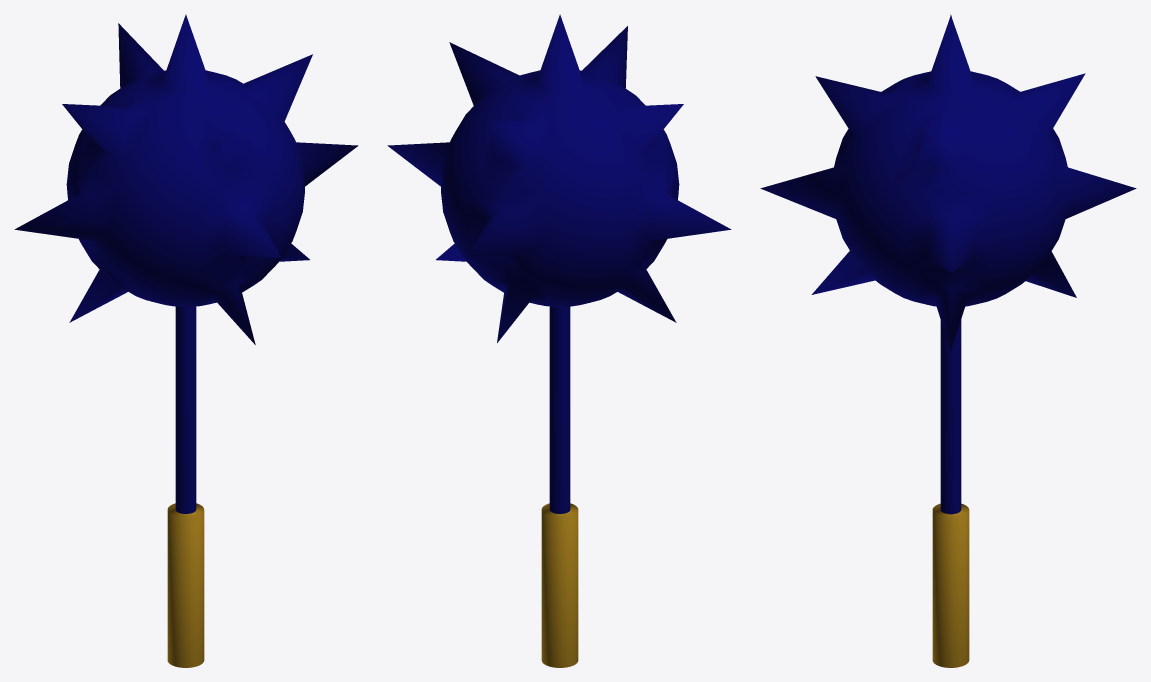
3 views of the same model, side by side, from view 1: azimuth 30°, elevation 25°; view 2: azimuth 150°, elevation 25°; view 3: azimuth 270°, elevation 25° (orthographic).
Visible parts, largest first — view 1: Sphere.001, grip_normal.004, Cylinder.001; view 2: Sphere.001, grip_normal.004, Cylinder.001; view 3: Sphere.001, grip_normal.004, Cylinder.001.
Boxes of the visible parts, box(x1,y1,x2,y2) form: Sphere.001: box(14, 14, 358, 344); grip_normal.004: box(167, 503, 204, 667); Cylinder.001: box(175, 306, 196, 513); Sphere.001: box(387, 14, 731, 342); grip_normal.004: box(541, 503, 578, 667); Cylinder.001: box(549, 306, 570, 513); Sphere.001: box(760, 14, 1136, 351); grip_normal.004: box(932, 503, 969, 667); Cylinder.001: box(940, 320, 961, 514).
Bounding box in the file's own units: 0.4034 × 0.7225 × 0.3824.
Materials: 2 (2 with a texture image).
